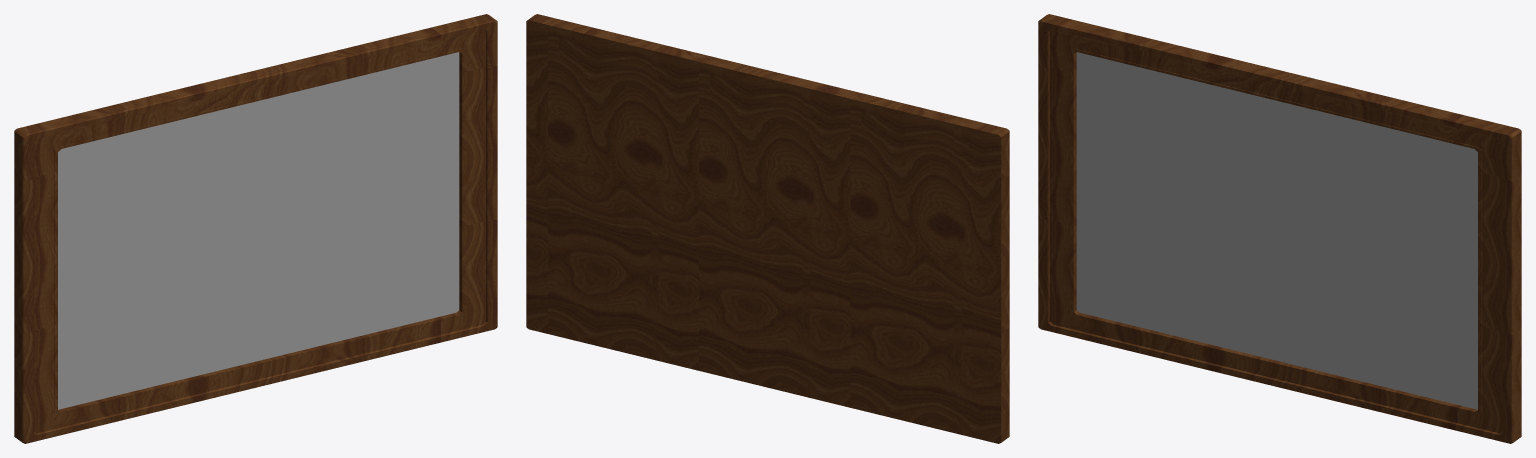
Rendered from Misc_RectangleFrame.fbx.
The picture shows the model from 3 angles, left to right: view 1: azimuth 30°, elevation 25°; view 2: azimuth 150°, elevation 25°; view 3: azimuth 330°, elevation 25°; orthographic projection.
Parts seen in each view (by area): view 1: PictureFrameRectangleUVd:pCube3; view 2: PictureFrameRectangleUVd:pCube3; view 3: PictureFrameRectangleUVd:pCube3.
Boxes of the visible parts, box(x1,y1,x2,y2) form: PictureFrameRectangleUVd:pCube3: box(14, 14, 497, 443); PictureFrameRectangleUVd:pCube3: box(526, 14, 1009, 443); PictureFrameRectangleUVd:pCube3: box(1038, 14, 1521, 443).
Size of the model in its own units: 10.54 by 6.55 by 0.3498.
